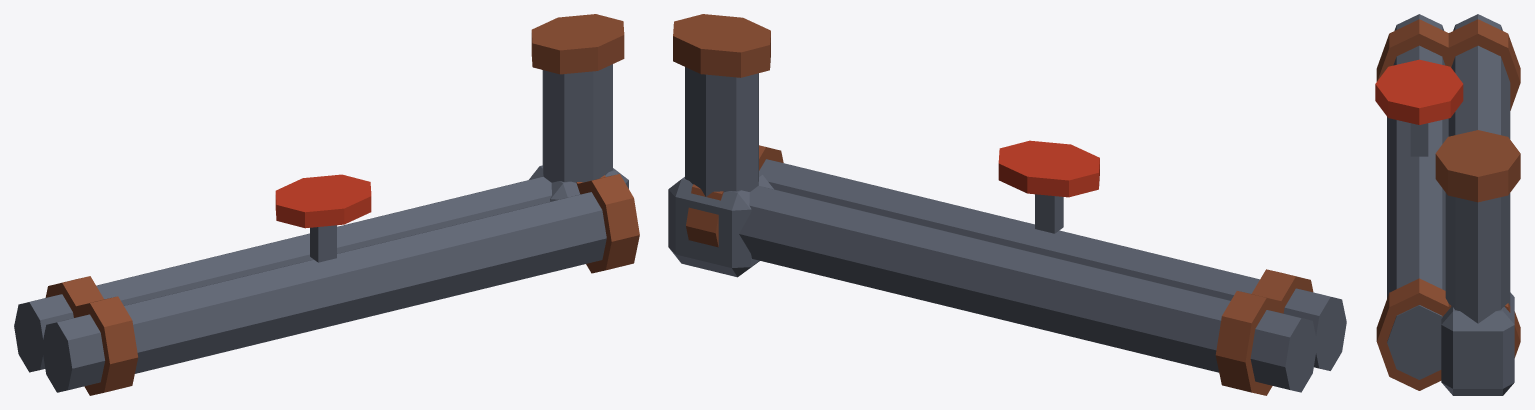
File: env_r3_pipe_run.glb
The picture shows the model from 3 angles, left to right: view 1: azimuth 30°, elevation 25°; view 2: azimuth 150°, elevation 25°; view 3: azimuth 270°, elevation 25°; orthographic projection. The views are drawn at different scales.
Parts seen in each view (by area): view 1: env_r3_pipe_run; view 2: env_r3_pipe_run; view 3: env_r3_pipe_run.
Part boxes in pixels (bbox=[...]): env_r3_pipe_run: bbox=[14, 14, 639, 395]; env_r3_pipe_run: bbox=[668, 14, 1346, 395]; env_r3_pipe_run: bbox=[1375, 14, 1520, 395].
Size of the model in its own units: 4 by 1.4 by 0.8.
1 material, 1 textured.
